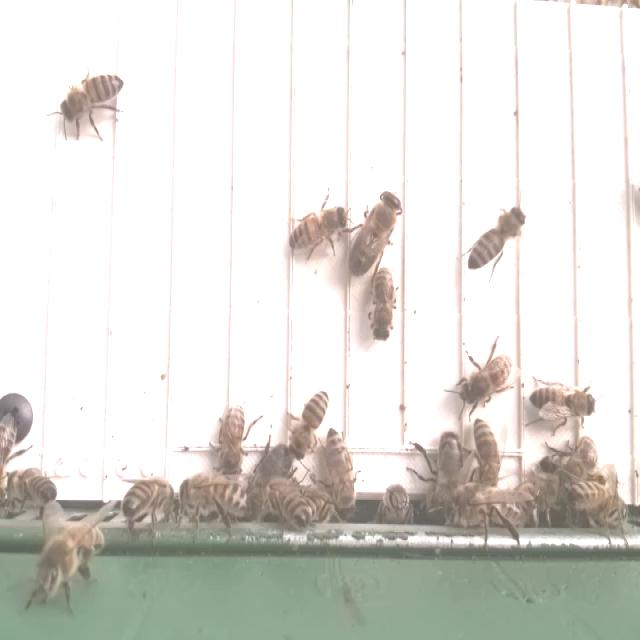Drone: (346, 186, 403, 280)
Worker: (465, 202, 528, 276), (59, 68, 127, 128), (457, 350, 514, 410), (289, 384, 331, 464), (322, 426, 358, 519), (527, 379, 598, 426), (178, 472, 250, 518), (285, 204, 349, 255), (469, 415, 501, 495), (217, 399, 249, 478), (367, 264, 399, 342)
